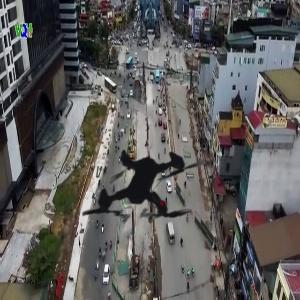drone: (51, 96, 238, 283)
